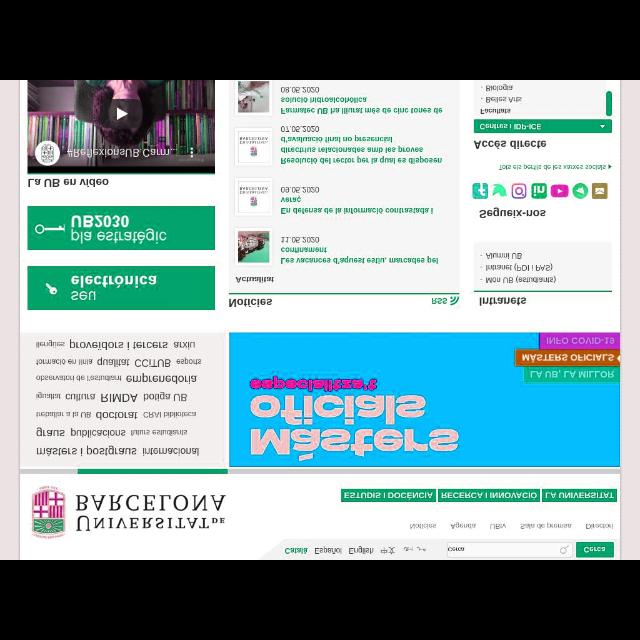button: (102, 100, 144, 126)
icon: (34, 222, 66, 234), (115, 106, 128, 120), (45, 283, 57, 295), (559, 544, 571, 554), (449, 295, 459, 305), (189, 147, 195, 159), (600, 123, 606, 129), (608, 163, 612, 169)
image: (28, 81, 214, 173), (30, 485, 66, 539), (238, 230, 270, 262), (238, 181, 270, 213), (238, 130, 270, 162), (238, 81, 270, 113), (36, 140, 60, 166), (473, 183, 489, 199), (531, 183, 547, 199), (592, 183, 608, 199), (551, 185, 569, 198), (573, 184, 589, 198), (512, 184, 526, 198), (492, 184, 508, 196)
input: (446, 542, 574, 556)
multitab: (410, 522, 614, 530)
text: (36, 339, 202, 456), (250, 377, 460, 461), (76, 492, 226, 532), (280, 134, 442, 164), (280, 194, 434, 214), (280, 96, 442, 114), (281, 246, 439, 264), (71, 214, 167, 243), (70, 274, 158, 302), (479, 252, 556, 284), (66, 147, 178, 157), (522, 353, 614, 363), (498, 163, 606, 171), (530, 369, 614, 379), (480, 83, 522, 103), (479, 207, 546, 219), (28, 177, 108, 187), (441, 492, 537, 500), (474, 139, 548, 149), (344, 492, 434, 500), (545, 336, 615, 346), (545, 492, 615, 500), (480, 122, 542, 130), (479, 296, 527, 306), (229, 297, 273, 307), (520, 522, 572, 530), (235, 275, 275, 283), (280, 185, 320, 193), (280, 125, 320, 133), (281, 236, 319, 244), (281, 86, 319, 94), (314, 546, 342, 554), (409, 522, 437, 530), (586, 522, 614, 530), (348, 546, 374, 554), (450, 521, 476, 529), (284, 547, 308, 555), (479, 108, 511, 114), (380, 546, 396, 556), (402, 546, 428, 552), (583, 546, 607, 552), (489, 522, 507, 530), (432, 297, 448, 305), (448, 546, 467, 552)
textbutton: (342, 488, 436, 502), (439, 489, 541, 501), (542, 488, 618, 502), (576, 541, 614, 557)
